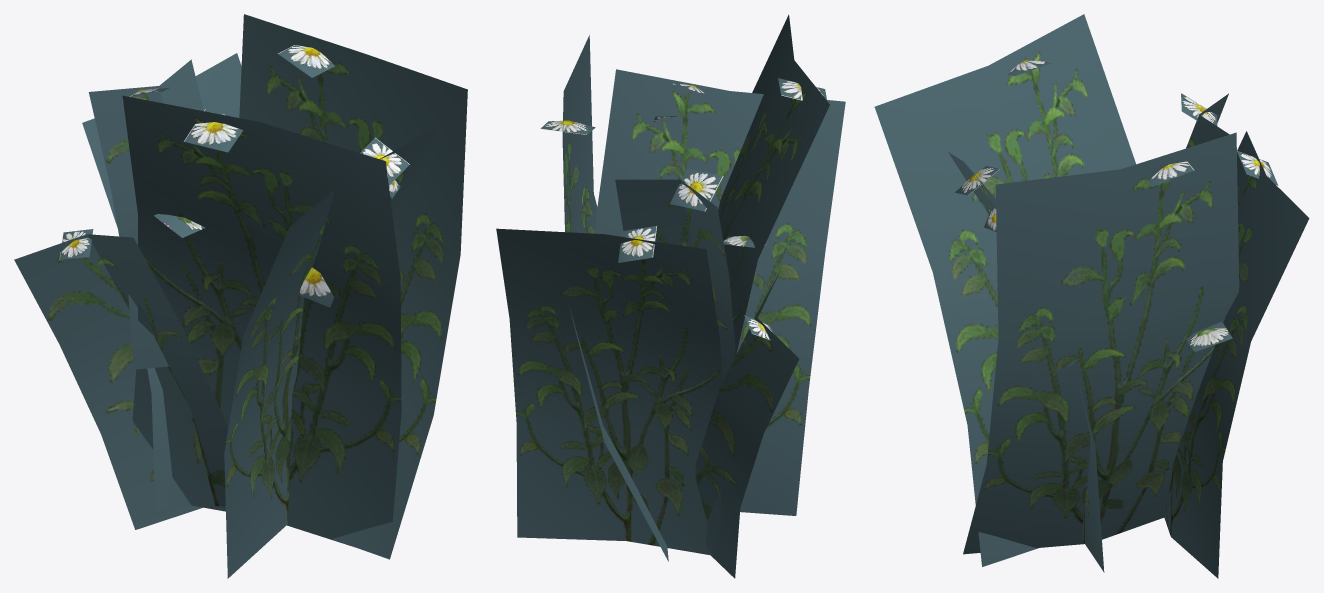
Rendered from 4006_Item_hua_5.FBX.
3 renders of one model, left to right at view 1: azimuth 30°, elevation 25°; view 2: azimuth 150°, elevation 25°; view 3: azimuth 270°, elevation 25°, orthographic. The views are drawn at different scales.
Parts seen in each view (by area): view 1: 4006_Item_hua_5; view 2: 4006_Item_hua_5; view 3: 4006_Item_hua_5.
Part boxes in pixels (x1=…): 4006_Item_hua_5: x1=14, y1=14, x2=467, y2=578; 4006_Item_hua_5: x1=496, y1=14, x2=845, y2=578; 4006_Item_hua_5: x1=874, y1=14, x2=1309, y2=578.
Size of the model in its own units: 102 by 138 by 119.
